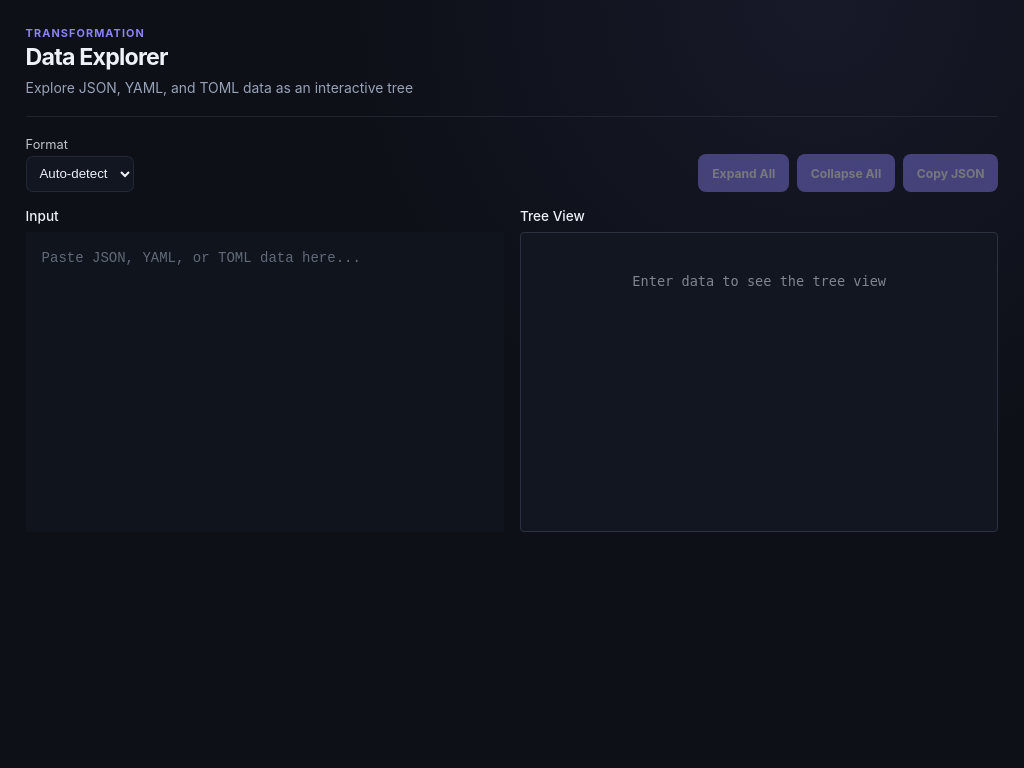
it: DataExplorerPage › renders valid JSON primitive false
This screenshot has width=1024, height=768.
Type "false" into the text box with placeholder "Paste JSON, YAML, or TOML data here...".
click(265, 382); type("false")  # box left=26, top=232, right=504, bottom=532
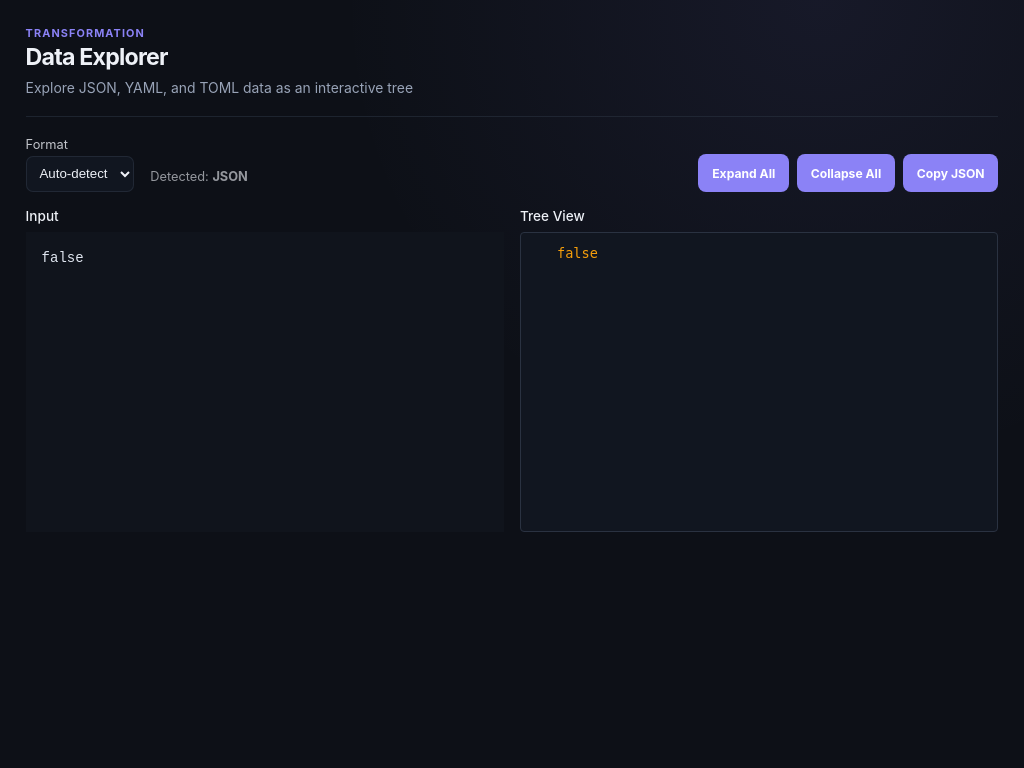
Check: the text with class "tree-value" reads "false", box left=557, top=245, right=598, bottom=261
Check: the button with class "action-button" showing "Expand All" is enabled, box left=698, top=154, right=789, bottom=192
